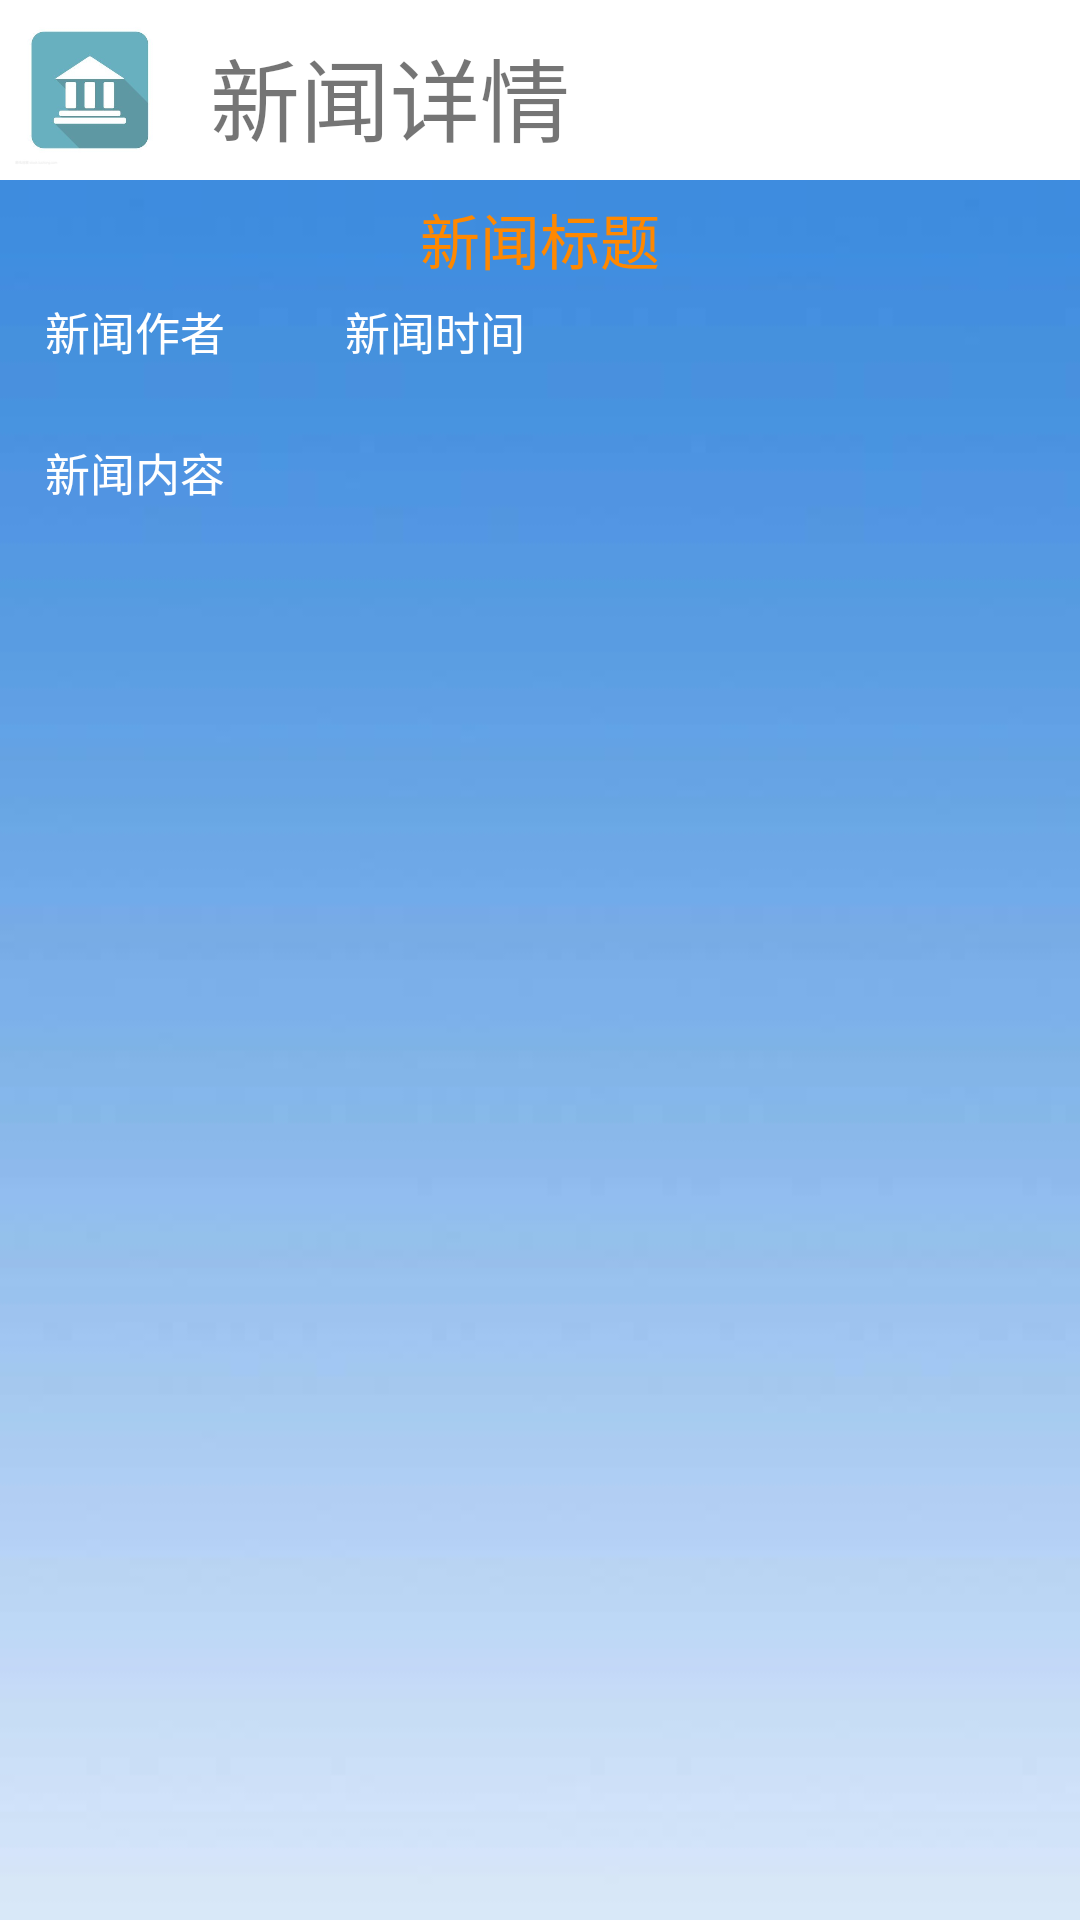

Where icons sit on this 1080w x 1920h app screen, as bbox=[x1, y1, x2, y2]:
museumdet: bbox=[31, 31, 149, 149]
